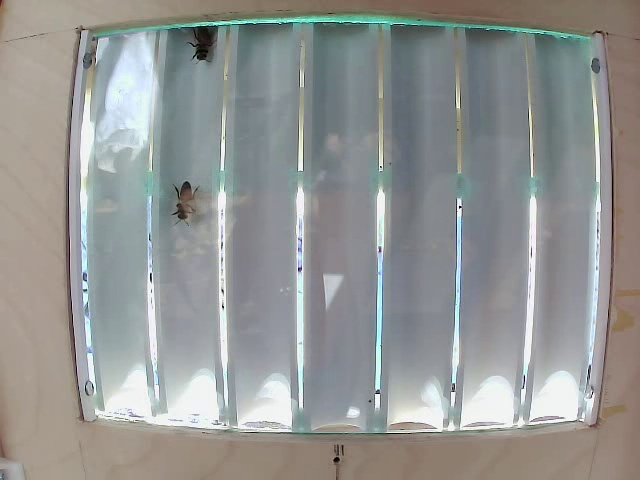bee: (191, 27, 248, 88), (164, 179, 212, 242)
